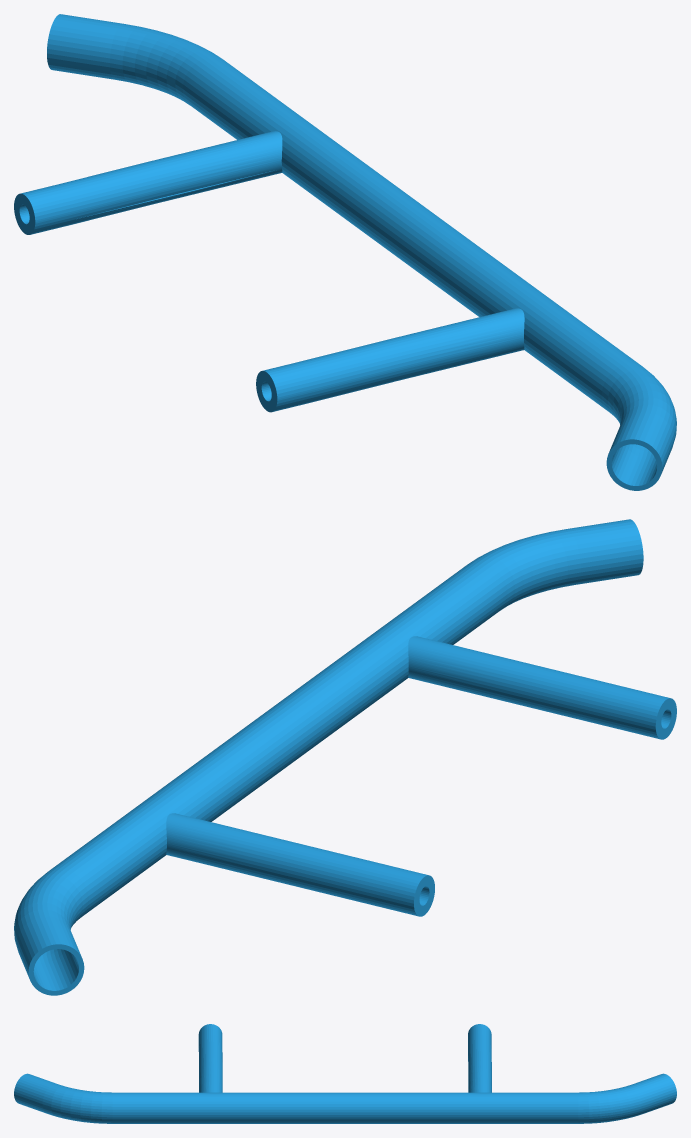
Rendered from bumper.dae.
The picture shows the model from 3 angles, top to bottom: view 1: azimuth 30°, elevation 25°; view 2: azimuth 150°, elevation 25°; view 3: azimuth 270°, elevation 25°; orthographic projection. The views are drawn at different scales.
Parts seen in each view (by area): view 1: bumper; view 2: bumper; view 3: bumper.
Part boxes in pixels (x1,y1,x2,y2): bumper: (14,14,676,490); bumper: (14,519,676,995); bumper: (14,1024,676,1123).
Bounding box in the file's own units: 0.153 × 0.5337 × 0.0254.
